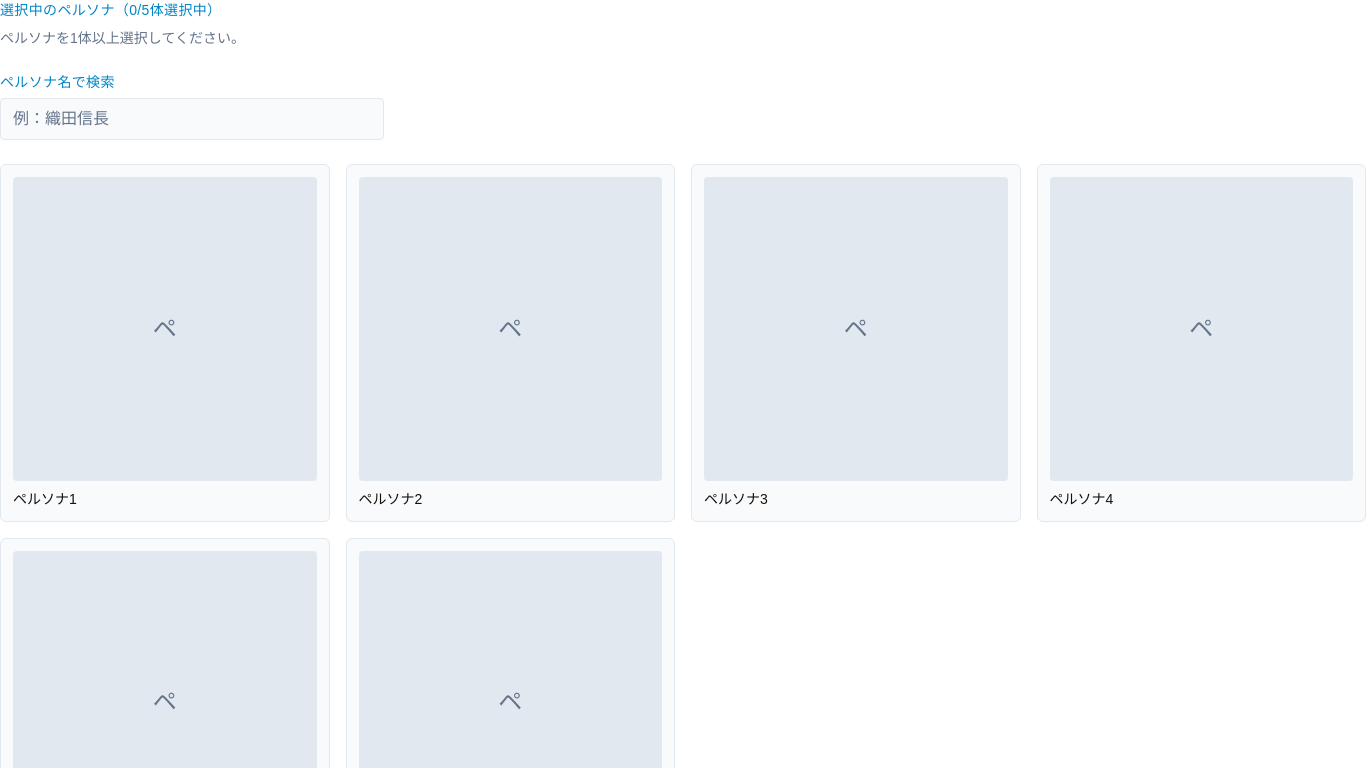
Scenario: PersonaSelector › 上限まで選択すると未選択のカードが無効化される
Click the button "ペ ペルソナ1". click: point(165, 343)
box: [0,164,330,522]
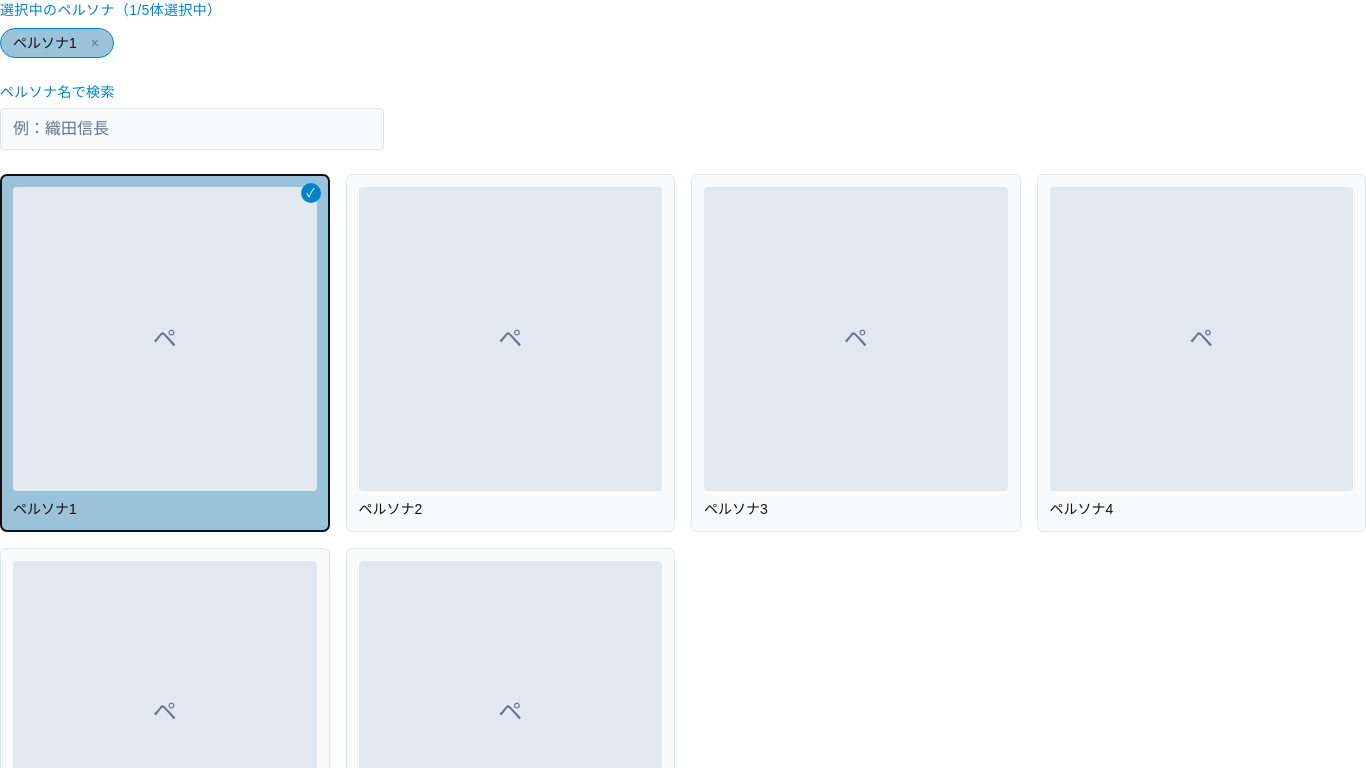
Click the button "ペ ペルソナ2". click: point(510, 353)
box: [346,174,675,532]
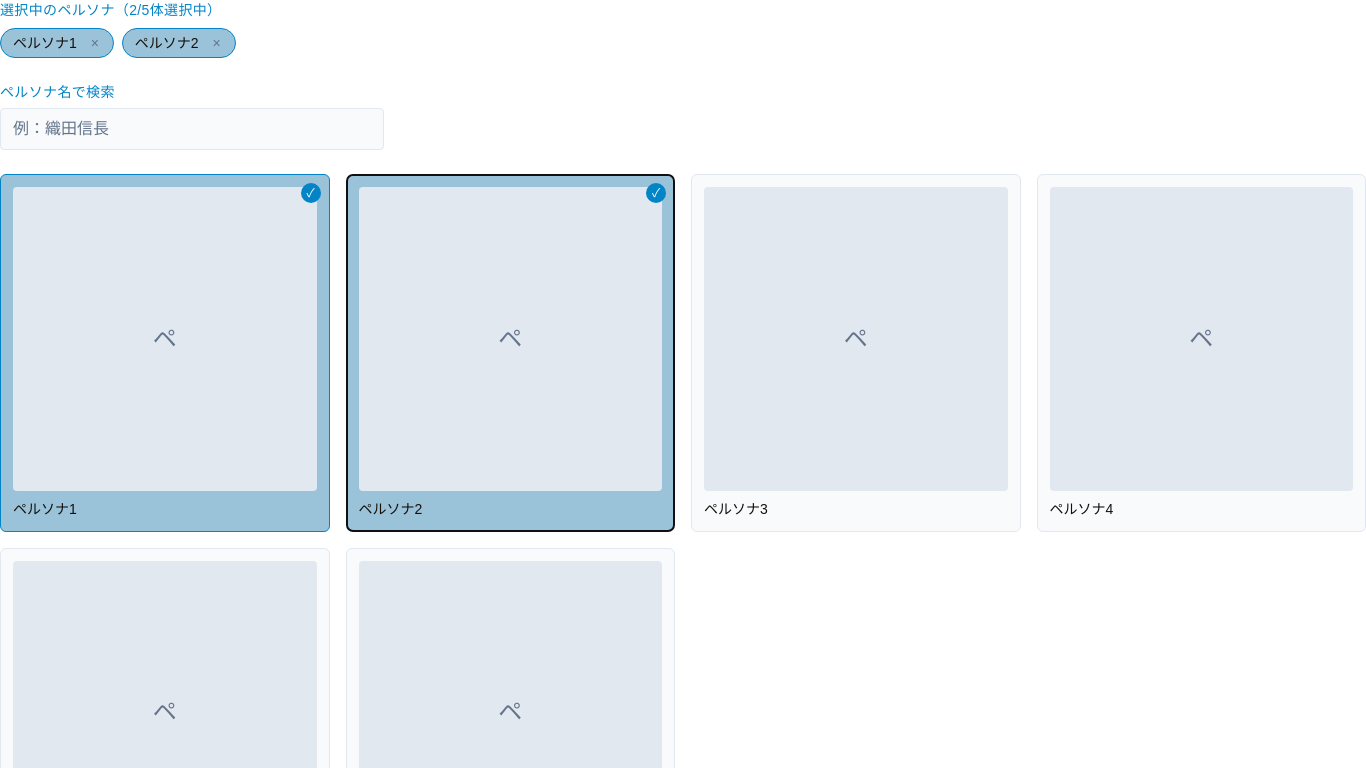
Click the button "ペ ペルソナ3". click: point(856, 353)
box: [691,174,1020,532]
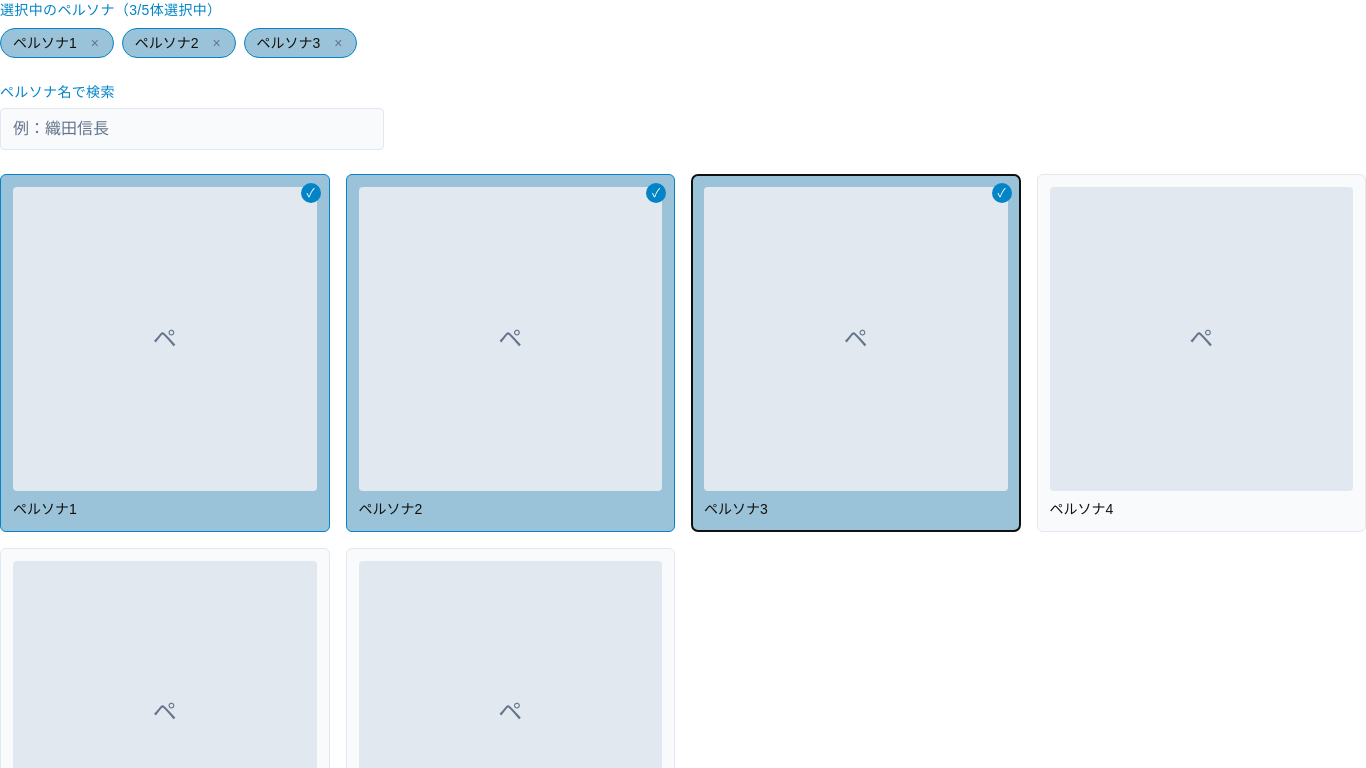
Click the button "ペ ペルソナ4". click: point(1201, 353)
box: [1036,174,1365,532]
(page scrolled)
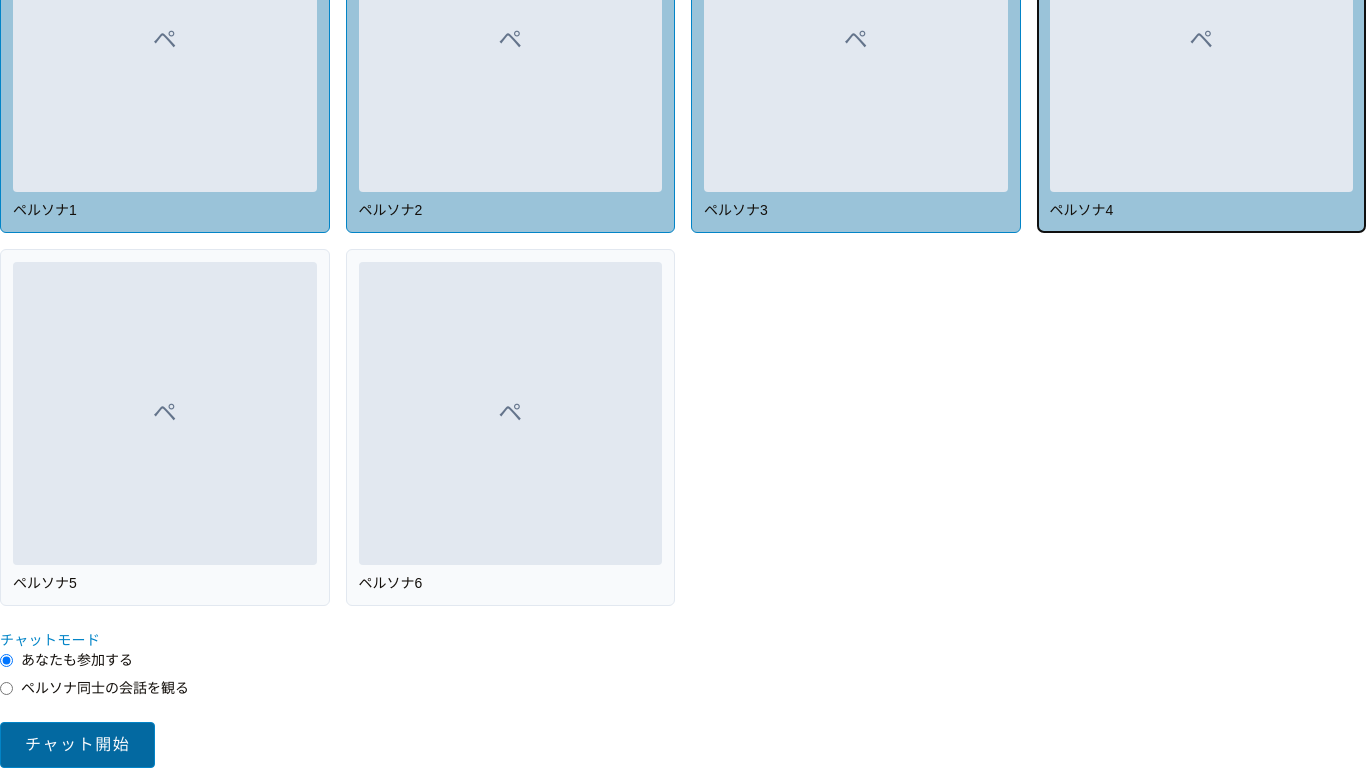
Click the button "ペ ペルソナ5". click: point(165, 427)
box: [0,248,330,606]
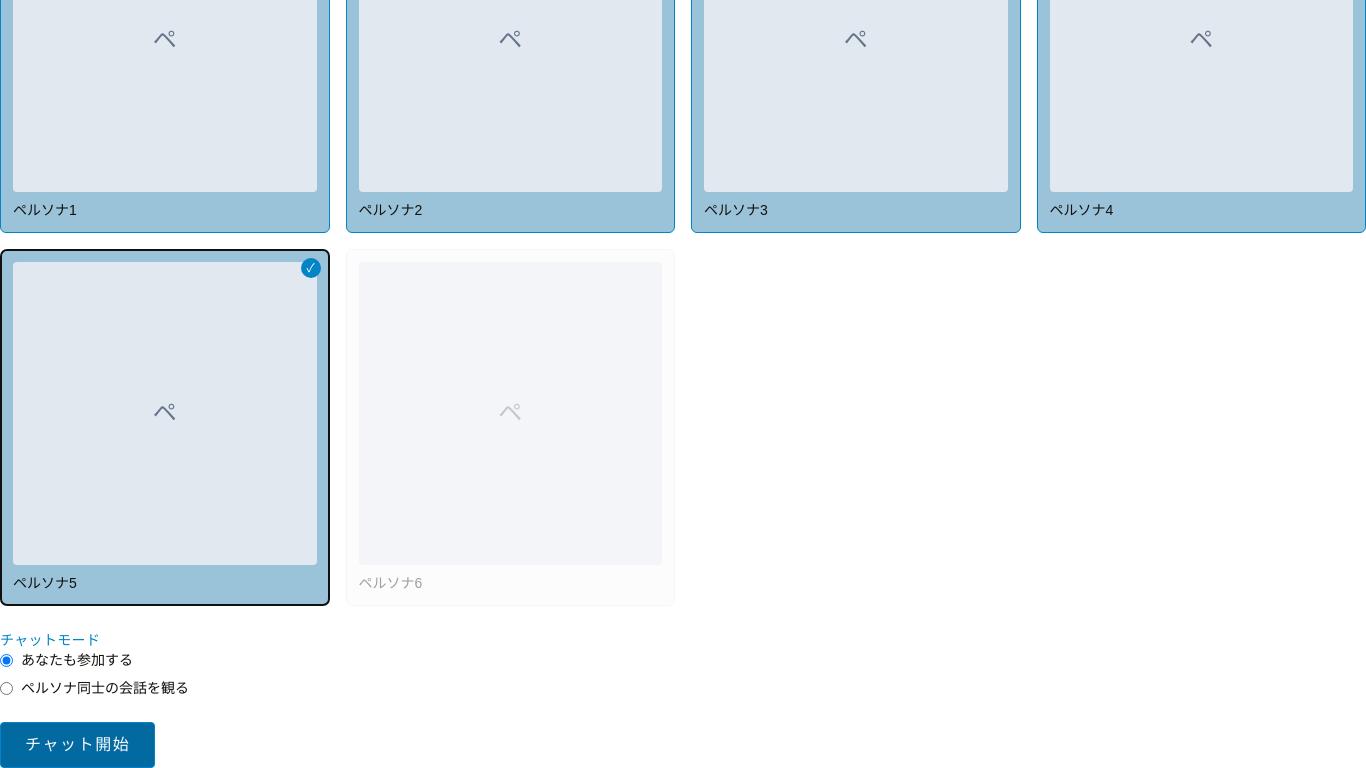
Expected: the button "ペ ペルソナ6" is disabled, [346,248,675,606]
